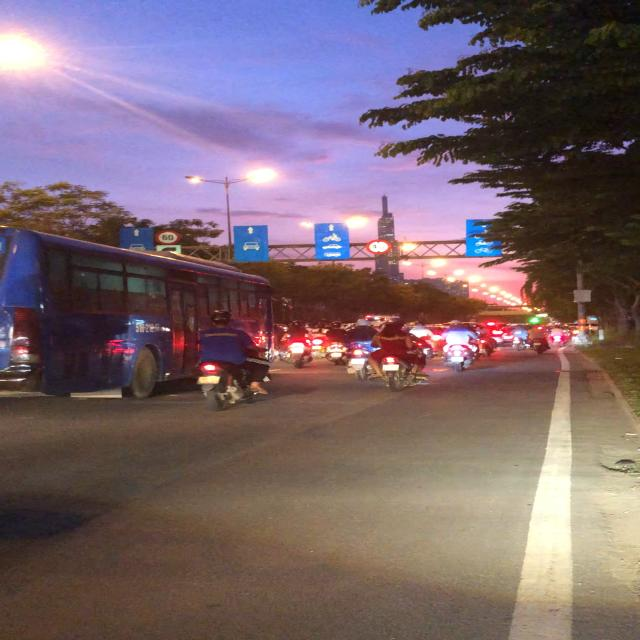Bien bao toc do toi da cho phep: (150, 229, 184, 246)
